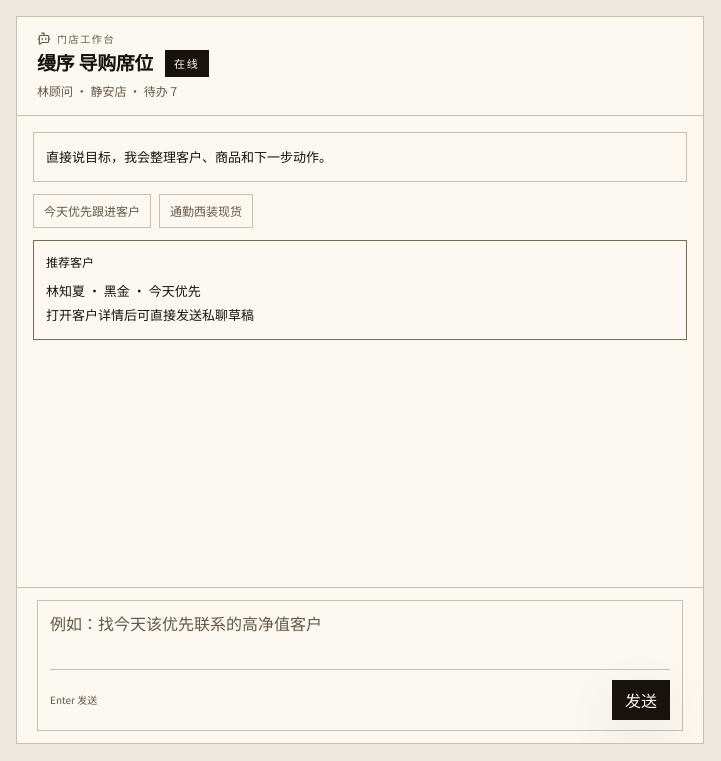
Test: App › shows retry notice when sending fails
Expected: the heading "缦序 导购席位" is shown, [37,54,153,73]
Type "帮我找重点客户" into the text box at (360, 635), box [50,611,670,659]
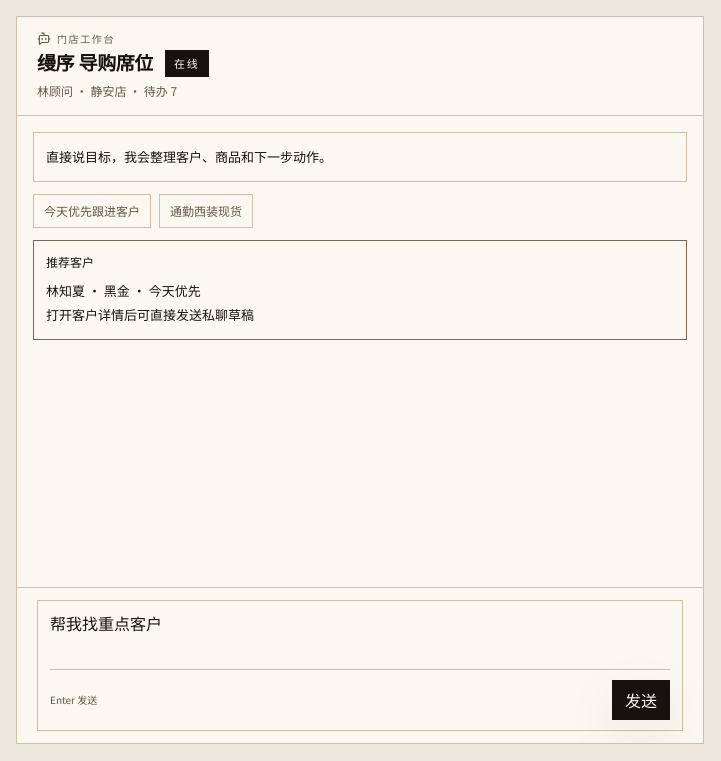
Click the button "发送" at (641, 700), box [612,680,670,720]
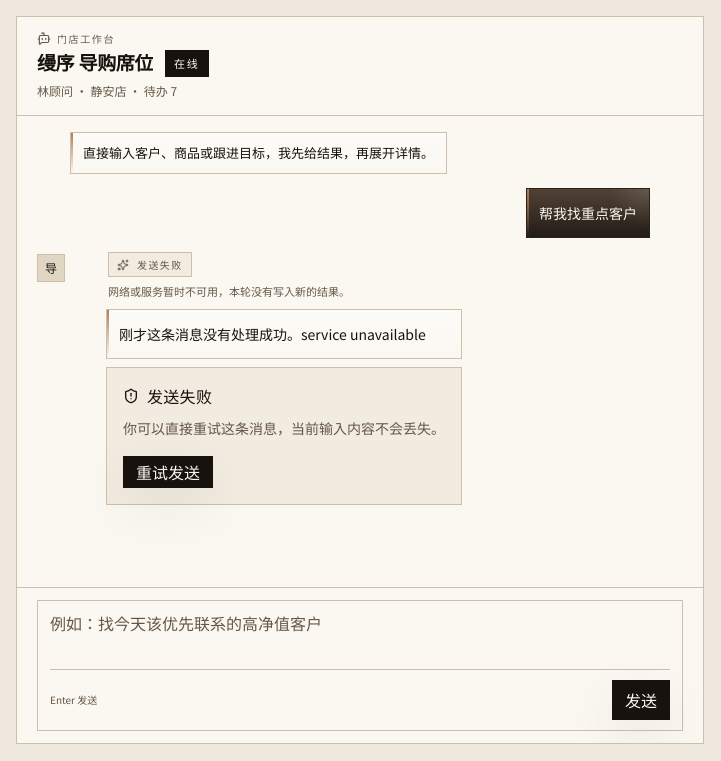
Expected: the 1st text "发送失败" is shown, [108,252,192,277]
Expected: the button "重试发送" is shown, [123,456,213,488]
